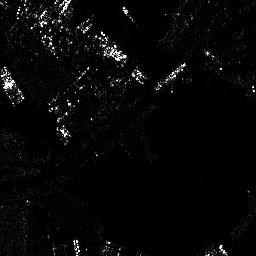ship: (155, 58, 187, 91), (1, 66, 26, 104)
